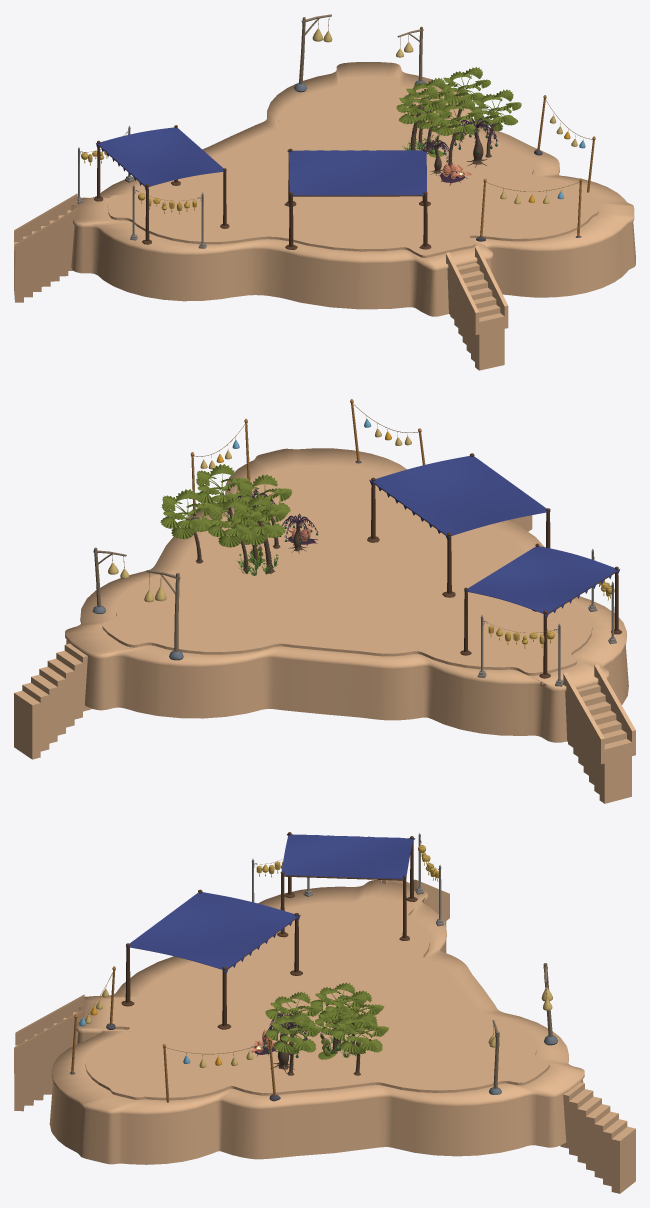
File: nomad_garden_terrace.fbx
The picture shows the model from 3 angles, top to bottom: view 1: azimuth 30°, elevation 25°; view 2: azimuth 150°, elevation 25°; view 3: azimuth 270°, elevation 25°; orthographic projection. The views are drawn at different scales.
Parts seen in each view (by area): view 1: NomadGardenTerrace; view 2: NomadGardenTerrace; view 3: NomadGardenTerrace.
Boxes of the visible parts, <box> form: NomadGardenTerrace: <box>14,14,635,370</box>; NomadGardenTerrace: <box>14,399,635,803</box>; NomadGardenTerrace: <box>14,832,635,1193</box>.
Size of the model in its own units: 5303 by 1659 by 5472.
